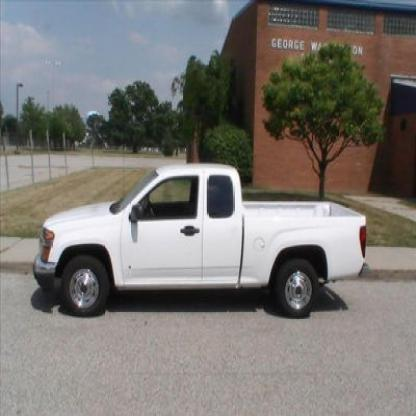Vehicle: (34, 162, 370, 320)
